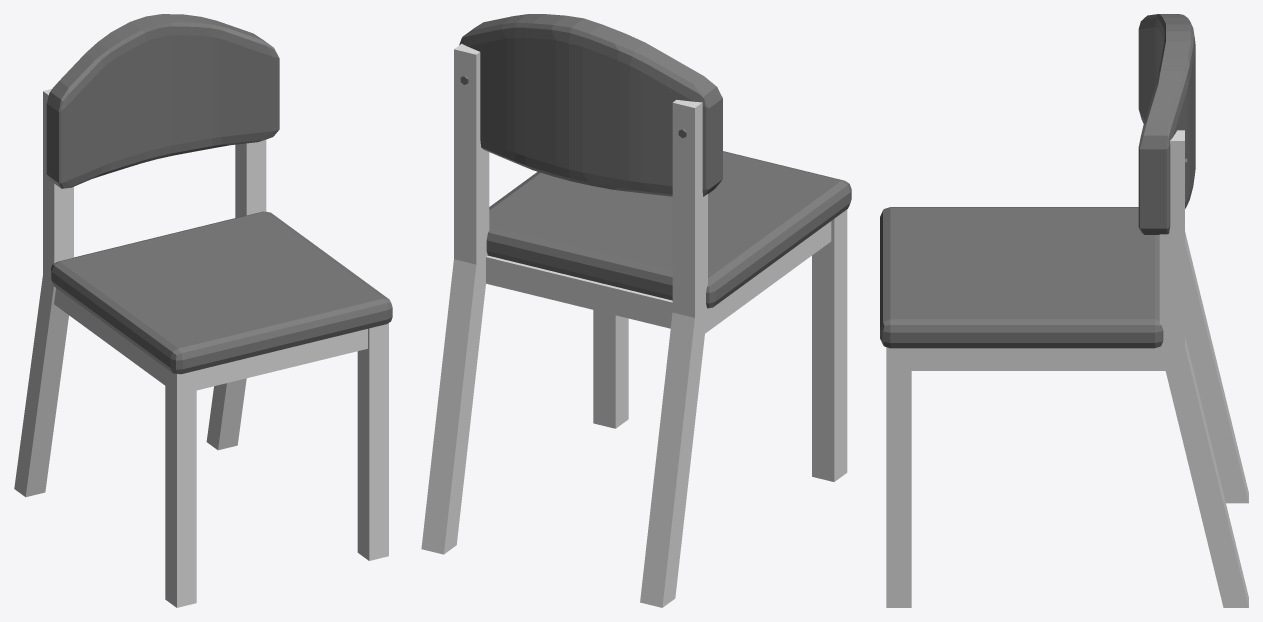
File: Chair_07_C2.fbx
The picture shows the model from 3 angles, left to right: view 1: azimuth 30°, elevation 25°; view 2: azimuth 150°, elevation 25°; view 3: azimuth 270°, elevation 25°; orthographic projection. The views are drawn at different scales.
Parts seen in each view (by area): view 1: Chair_07_C2; view 2: Chair_07_C2; view 3: Chair_07_C2.
Boxes of the visible parts, x1,y1,x2,y2 form: Chair_07_C2: (14,14,392,607); Chair_07_C2: (421,14,851,607); Chair_07_C2: (880,14,1248,607).
Size of the model in its own units: 45 by 90.46 by 58.24.
